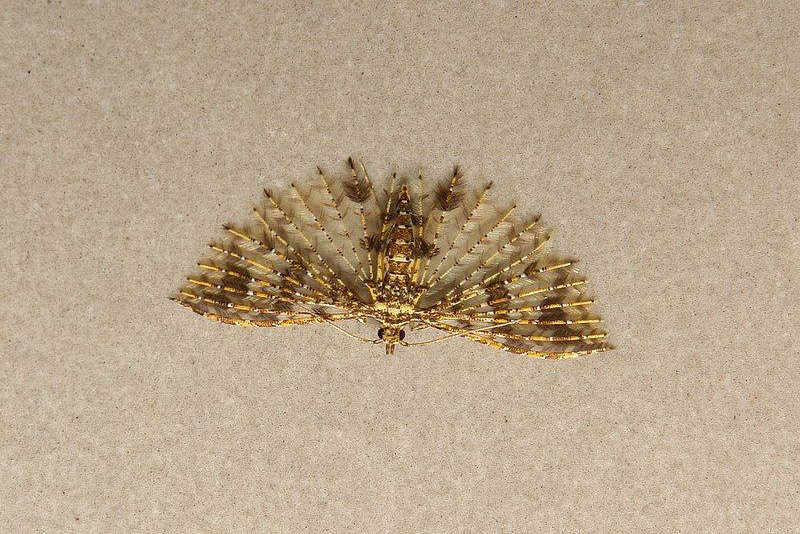Alucitidae: (165, 139, 620, 363)
moth: (167, 141, 622, 365)
